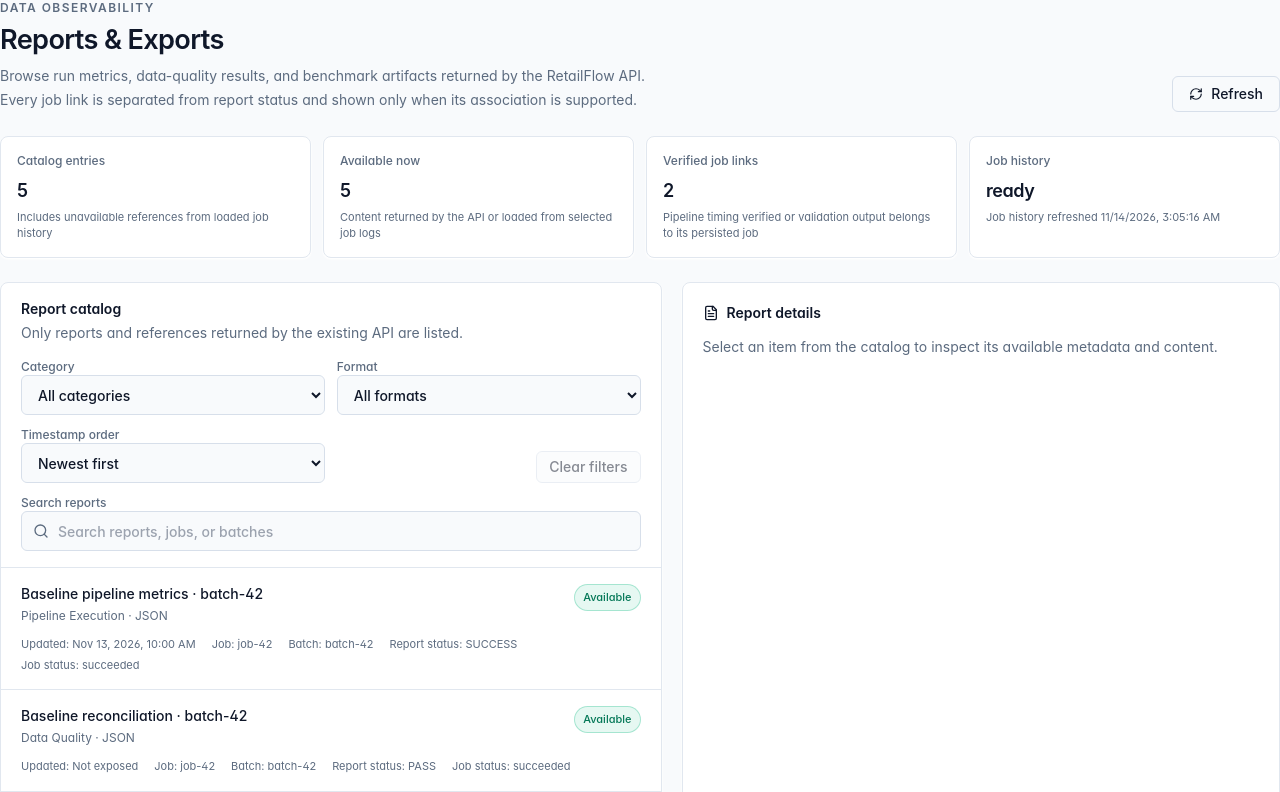
Scenario: ReportsPage › searches report names and keeps the search control full width
The image size is (1280, 792).
Type "Baseline pipeline metrics" into the search field named "Search report catalog" at (331, 531), box [21,511,640,551]
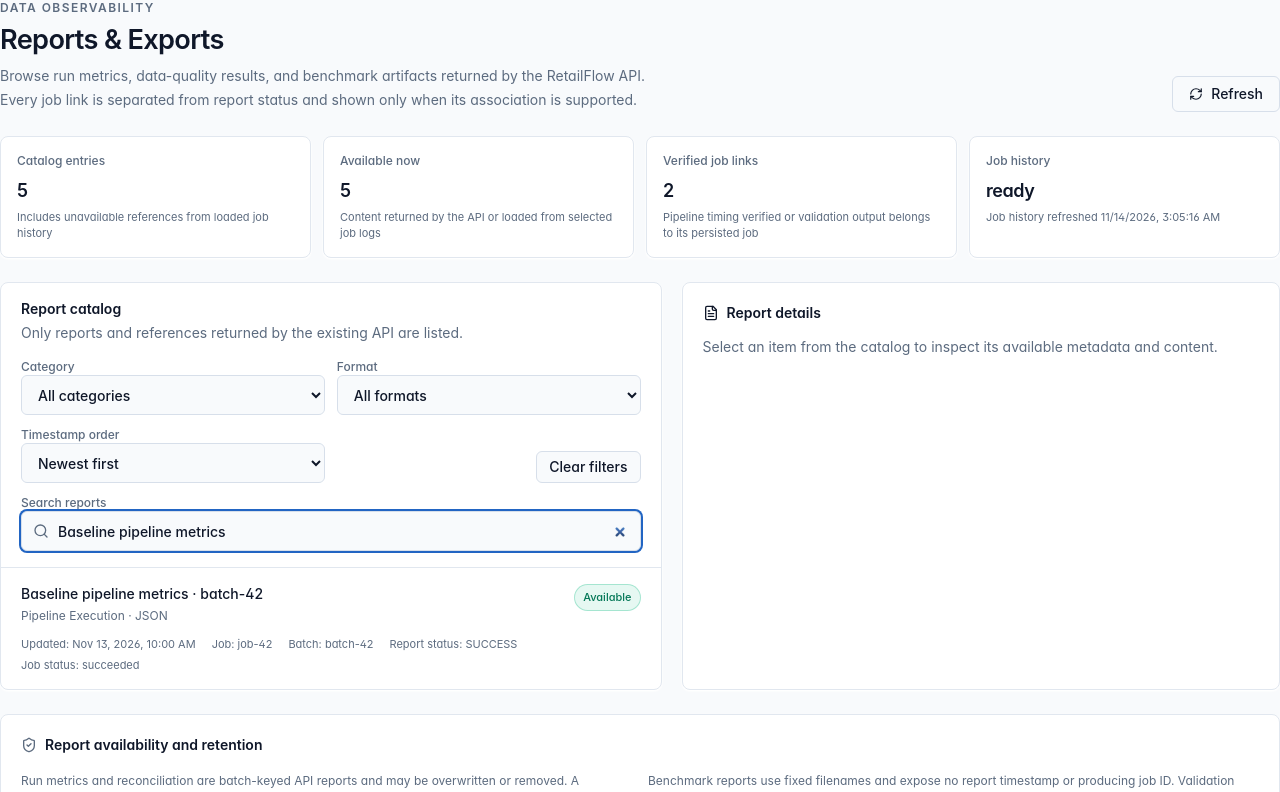
Check: the text "Baseline pipeline metrics · batch-42" is shown, box [21,584,263,604]
Check: the button "Baseline reconciliation · batch-42" is gone
